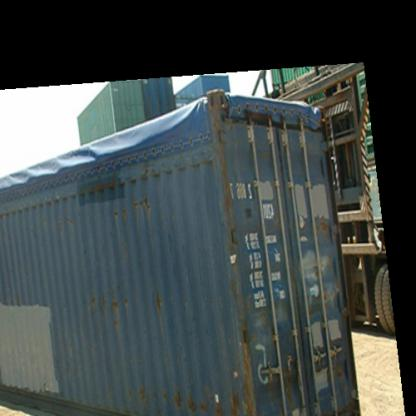Damage: (117, 376, 261, 415), (72, 284, 134, 327), (103, 190, 168, 223), (147, 286, 169, 316)
